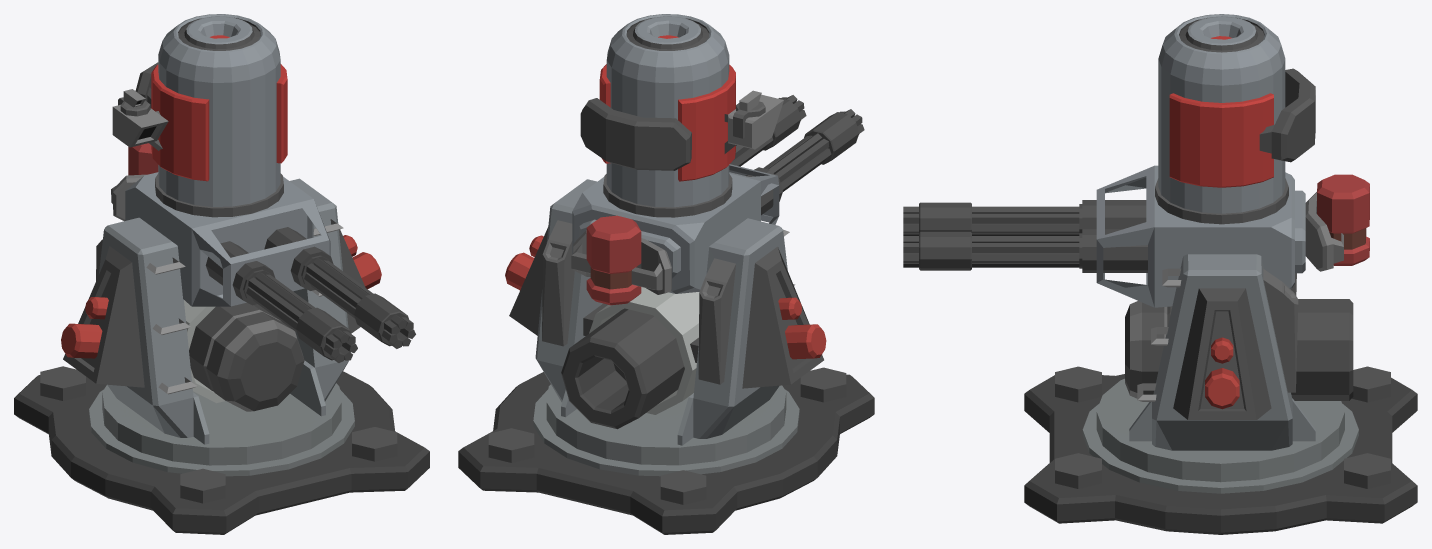
File: model_polyfleet_battleship_phalanx07.fbx
The picture shows the model from 3 angles, left to right: view 1: azimuth 30°, elevation 25°; view 2: azimuth 150°, elevation 25°; view 3: azimuth 270°, elevation 25°; orthographic projection. The views are drawn at different scales.
Parts seen in each view (by area): view 1: weapon_rotate, weapon_barrel_tilt, model_polyfleet_battleship_phalanx07, weapon_barrels1, weapon_barrels2; view 2: weapon_rotate, weapon_barrel_tilt, model_polyfleet_battleship_phalanx07, weapon_barrels1, weapon_barrels2; view 3: weapon_rotate, weapon_barrel_tilt, model_polyfleet_battleship_phalanx07, weapon_barrels2, weapon_barrels1.
Part boxes in pixels (box(x1,y1,x2,y2)): weapon_rotate: box(61, 178, 381, 476); weapon_barrel_tilt: box(111, 14, 330, 306); model_polyfleet_battleship_phalanx07: box(14, 366, 429, 534); weapon_barrels1: box(205, 241, 357, 362); weapon_barrels2: box(264, 227, 415, 348); weapon_rotate: box(505, 179, 826, 476); weapon_barrel_tilt: box(571, 14, 783, 305); model_polyfleet_battleship_phalanx07: box(458, 367, 874, 534); weapon_barrels1: box(745, 109, 864, 215); weapon_barrels2: box(730, 95, 806, 166); weapon_rotate: box(1082, 254, 1358, 493); weapon_barrel_tilt: box(1096, 14, 1369, 307); model_polyfleet_battleship_phalanx07: box(1024, 366, 1417, 534); weapon_barrels2: box(903, 229, 1147, 272); weapon_barrels1: box(903, 200, 1146, 235).
Bounding box in the file's own units: 384 × 489 × 530.
